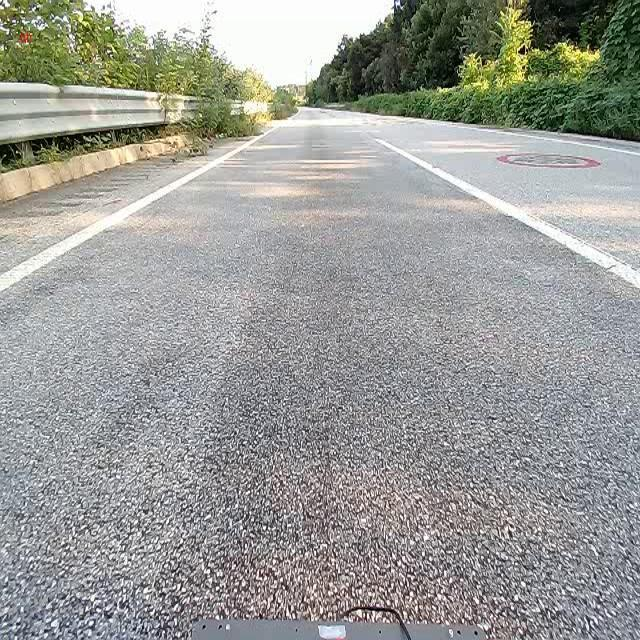Lane: (2, 128, 268, 293), (373, 133, 640, 290), (0, 138, 257, 293), (377, 138, 639, 289)
